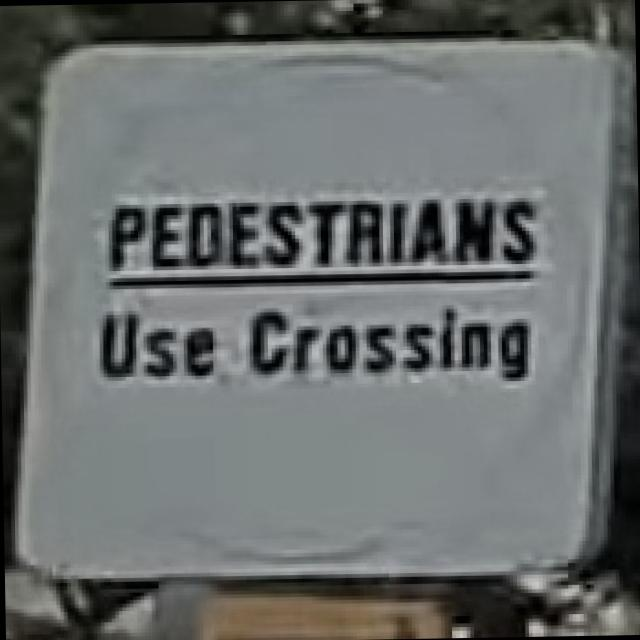pedestriancrossing_sign: (62, 186, 596, 444)
